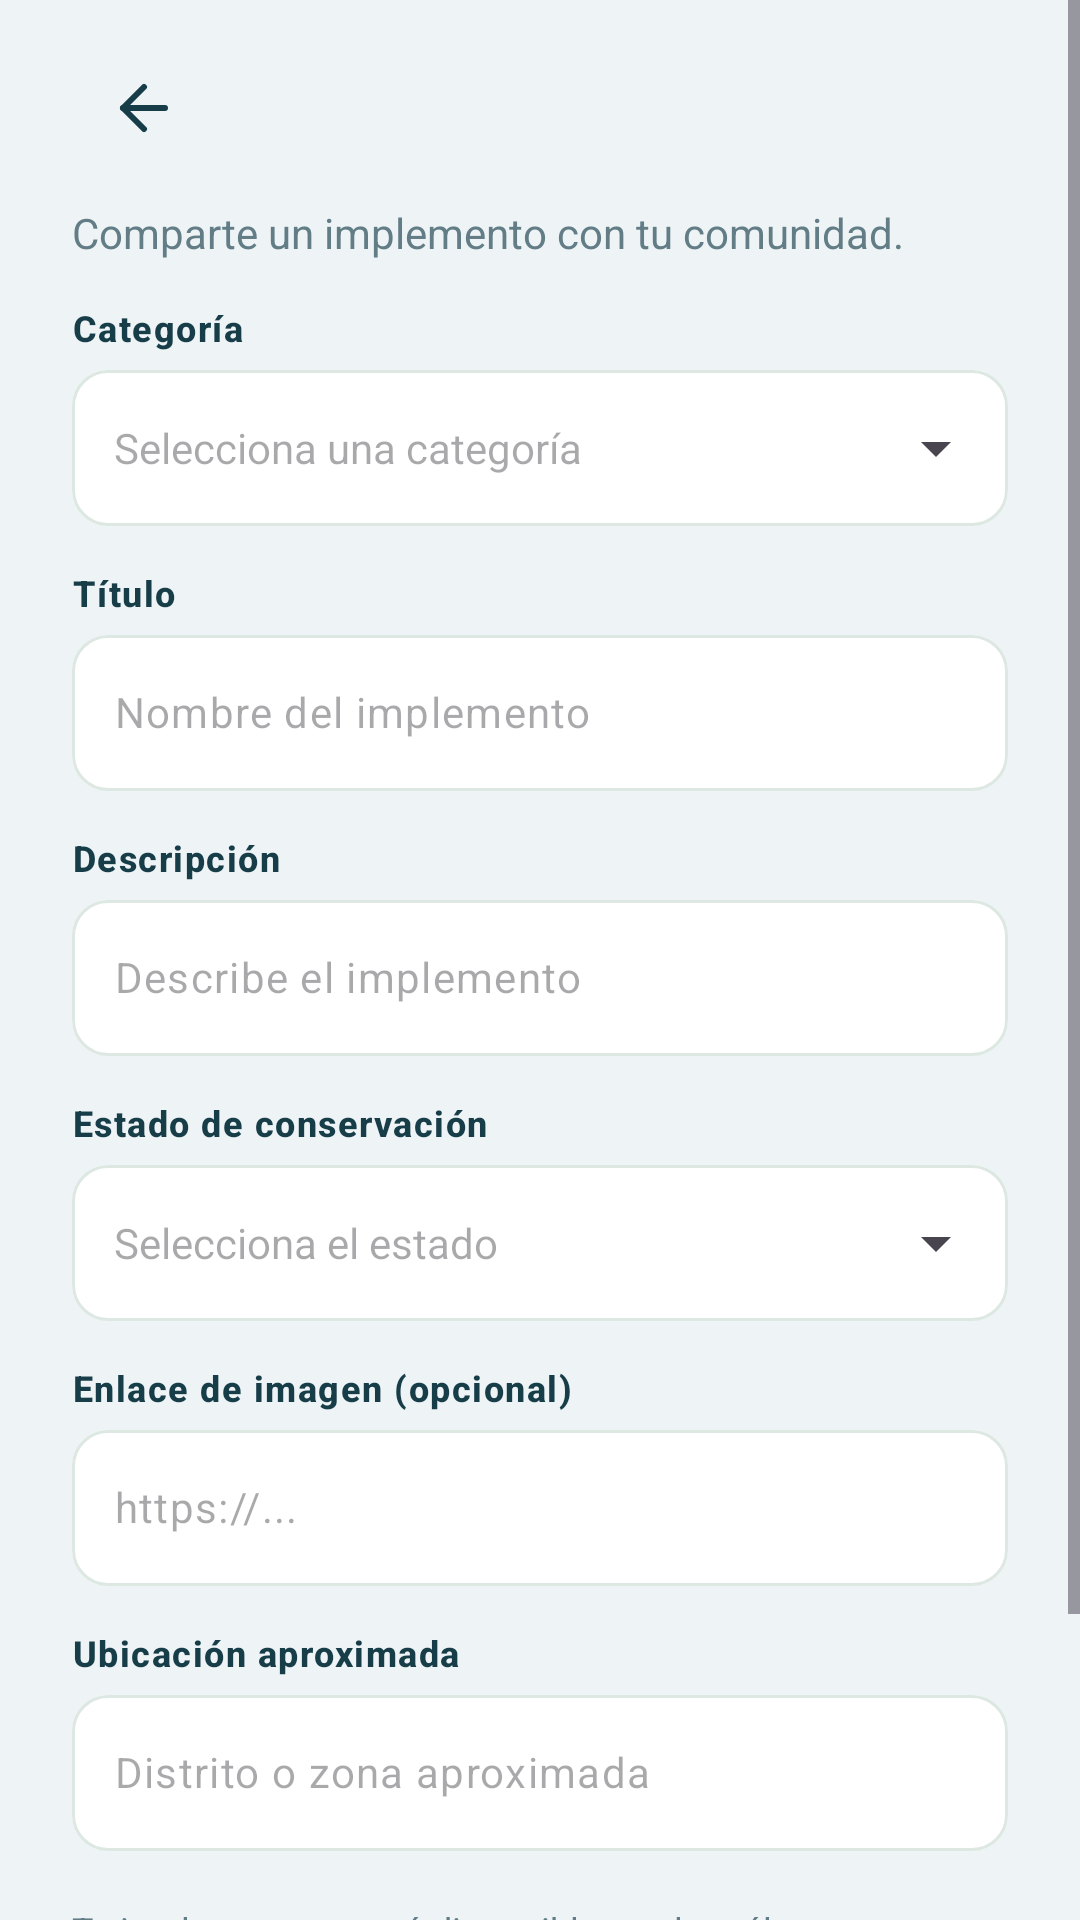

Icons on this 1080px×1920px Android screen, each with its box as (x1, y1, x2, y2):
Volver: (120, 84, 168, 132)
